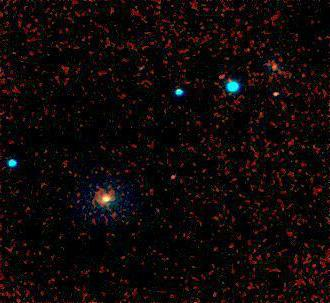star: (200, 60, 230, 90)
